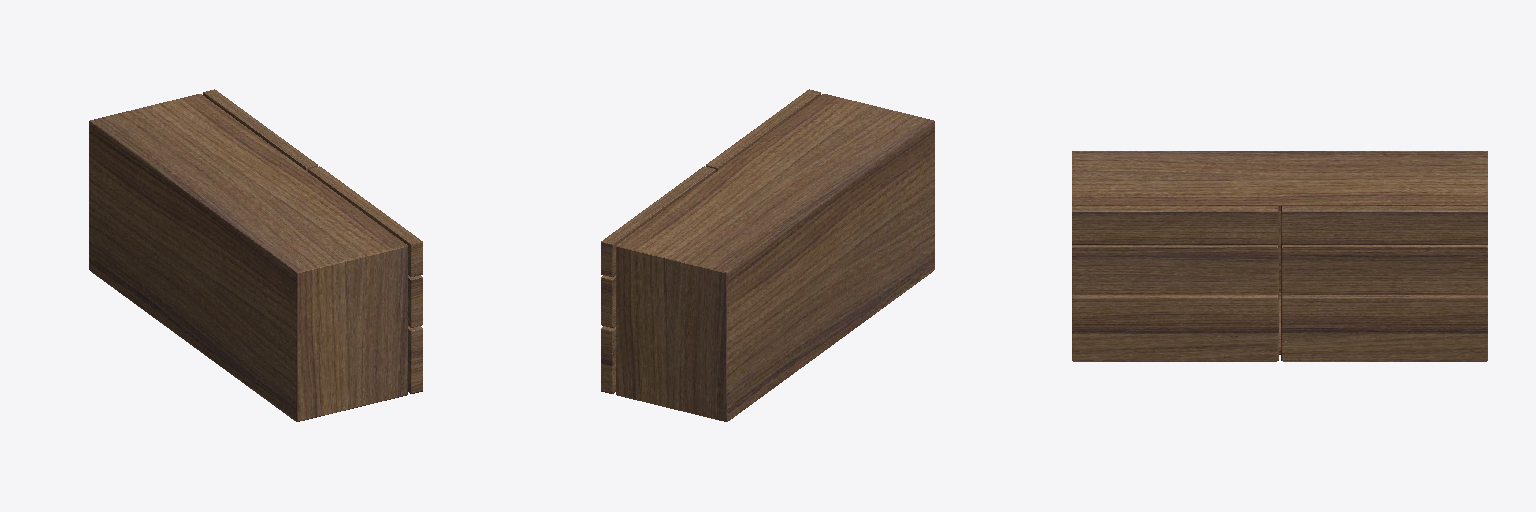
The picture shows the model from 3 angles: view 1: azimuth 30°, elevation 25°; view 2: azimuth 150°, elevation 25°; view 3: azimuth 270°, elevation 25°; orthographic projection.
Parts seen in each view (by area): view 1: pasted__polySurface18 group; view 2: pasted__polySurface18 group; view 3: pasted__polySurface18 group.
Part boxes in pixels (x1,y1,x2,y2): pasted__polySurface18 group: (89,89,422,421); pasted__polySurface18 group: (601,89,934,421); pasted__polySurface18 group: (1072,151,1487,361).
Bounding box in the file's own units: 0.8119 × 0.922 × 2.32.
1 materials, 1 textured.